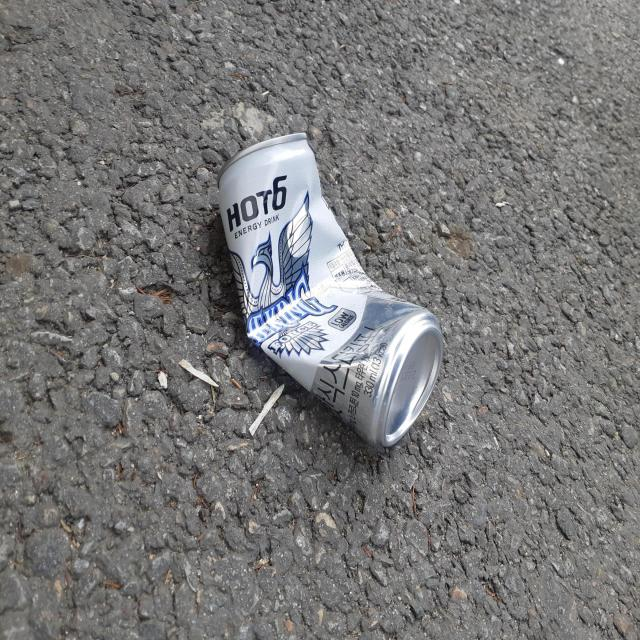can: (218, 132, 444, 447)
